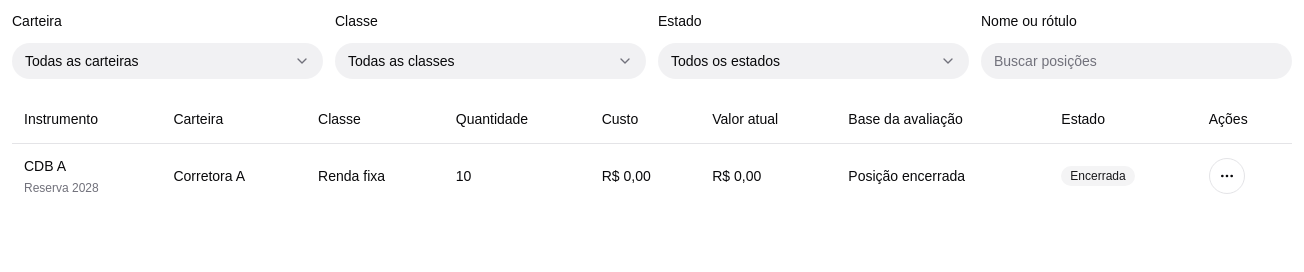
Test: InvestmentPositionTable › shows a closed position as zero while keeping its row and history action
This screenshot has width=1304, height=272.
Check: the text "Encerrada" is shown, box [1061,166,1135,186]
Check: the text "Posição encerrada" is shown, box [836,143,1049,208]
Click the button named "Ações da posição CDB A — Reserva 2028" at (1227, 176), box [1209,158,1245,194]
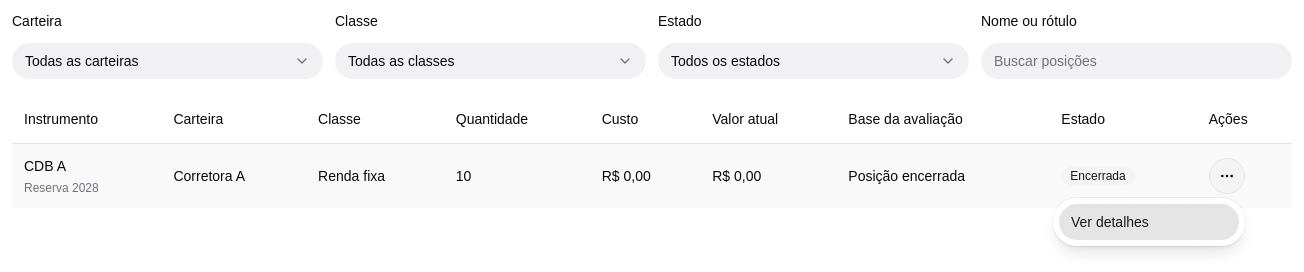
Check: the menu item "Ver detalhes" is shown, box [1059,204,1239,240]
